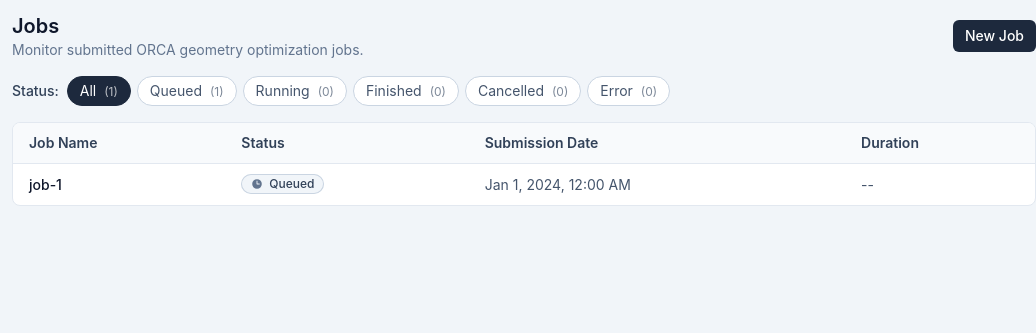
Scenario: JobsPage › shows an empty state when no jobs match the selected filter
Expected: the link "job-1" is shown, left=29, top=176, right=62, bottom=192
Click the button "Running (0)": point(295, 91) left=243, top=76, right=347, bottom=106
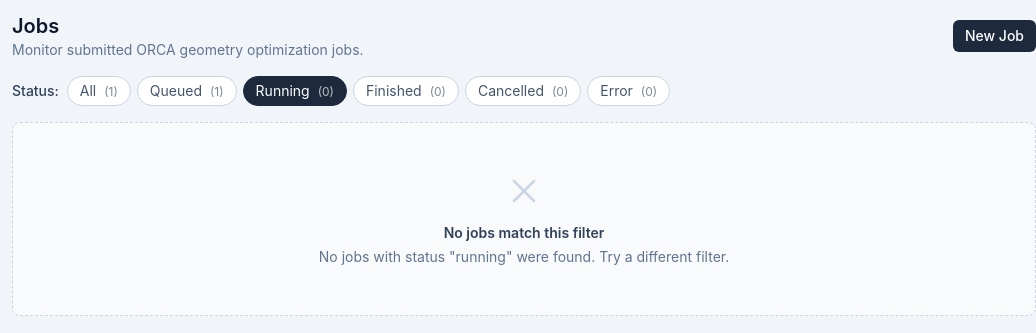
Expected: the heading "No jobs match this filter" is shown, left=444, top=223, right=604, bottom=243
